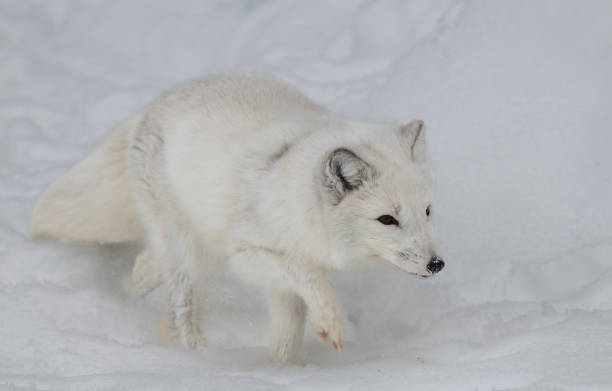arcticfox: (318, 114, 459, 309)
